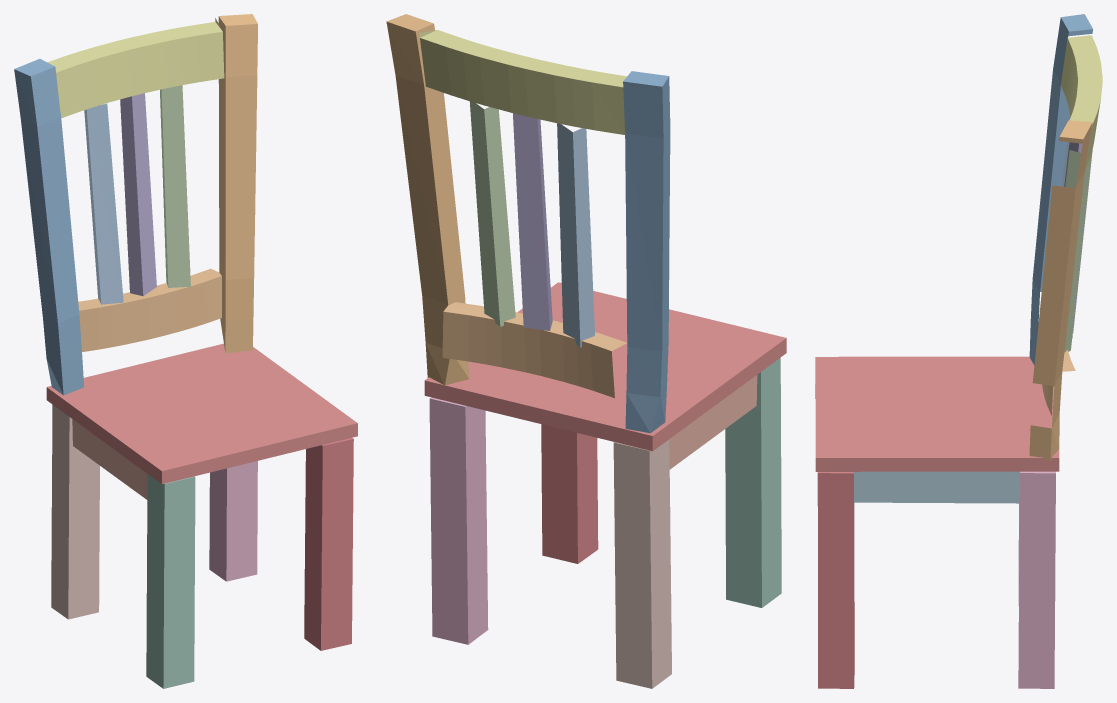
The model's file is 70913_assembly.glb.
3 renders of one model, left to right at view 1: azimuth 30°, elevation 25°; view 2: azimuth 150°, elevation 25°; view 3: azimuth 270°, elevation 25°, orthographic. The views are drawn at different scales.
Visible parts, largest first — view 1: part_01, part_12, part_03, part_09, part_07, part_00, part_06, part_04, part_05, part_13, part_11, part_08 (+1 smaller); view 2: part_01, part_12, part_03, part_06, part_05, part_07, part_09, part_04, part_00, part_11, part_08, part_13 (+1 smaller); view 3: part_01, part_03, part_00, part_05, part_10, part_12, part_07, part_08.
Boxes of the visible parts, bbox=[...] form: part_01: bbox=[46, 343, 357, 484]; part_12: bbox=[14, 58, 83, 395]; part_03: bbox=[218, 14, 257, 353]; part_09: bbox=[146, 474, 195, 688]; part_07: bbox=[47, 18, 224, 118]; part_00: bbox=[304, 438, 353, 650]; part_06: bbox=[51, 404, 99, 619]; part_04: bbox=[78, 268, 221, 351]; part_05: bbox=[209, 461, 257, 581]; part_13: bbox=[120, 93, 156, 296]; part_11: bbox=[84, 103, 123, 304]; part_08: bbox=[160, 85, 190, 287]; part_01: bbox=[424, 282, 786, 451]; part_12: bbox=[623, 71, 670, 433]; part_03: bbox=[386, 14, 469, 385]; part_06: bbox=[613, 439, 671, 688]; part_05: bbox=[429, 397, 488, 644]; part_07: bbox=[419, 30, 626, 134]; part_09: bbox=[725, 358, 781, 607]; part_04: bbox=[442, 302, 626, 398]; part_00: bbox=[541, 424, 598, 563]; part_11: bbox=[557, 123, 594, 347]; part_08: bbox=[469, 101, 515, 326]; part_13: bbox=[513, 113, 552, 330]; part_01: bbox=[815, 356, 1059, 471]; part_03: bbox=[1029, 120, 1092, 460]; part_00: bbox=[817, 472, 854, 688]; part_05: bbox=[1018, 471, 1055, 688]; part_10: bbox=[854, 471, 1019, 503]; part_12: bbox=[1029, 14, 1093, 364]; part_07: bbox=[1061, 35, 1102, 169]; part_08: bbox=[1064, 150, 1092, 352].
Size of the model in its own units: 0.7855 by 1.69 by 0.7761.
